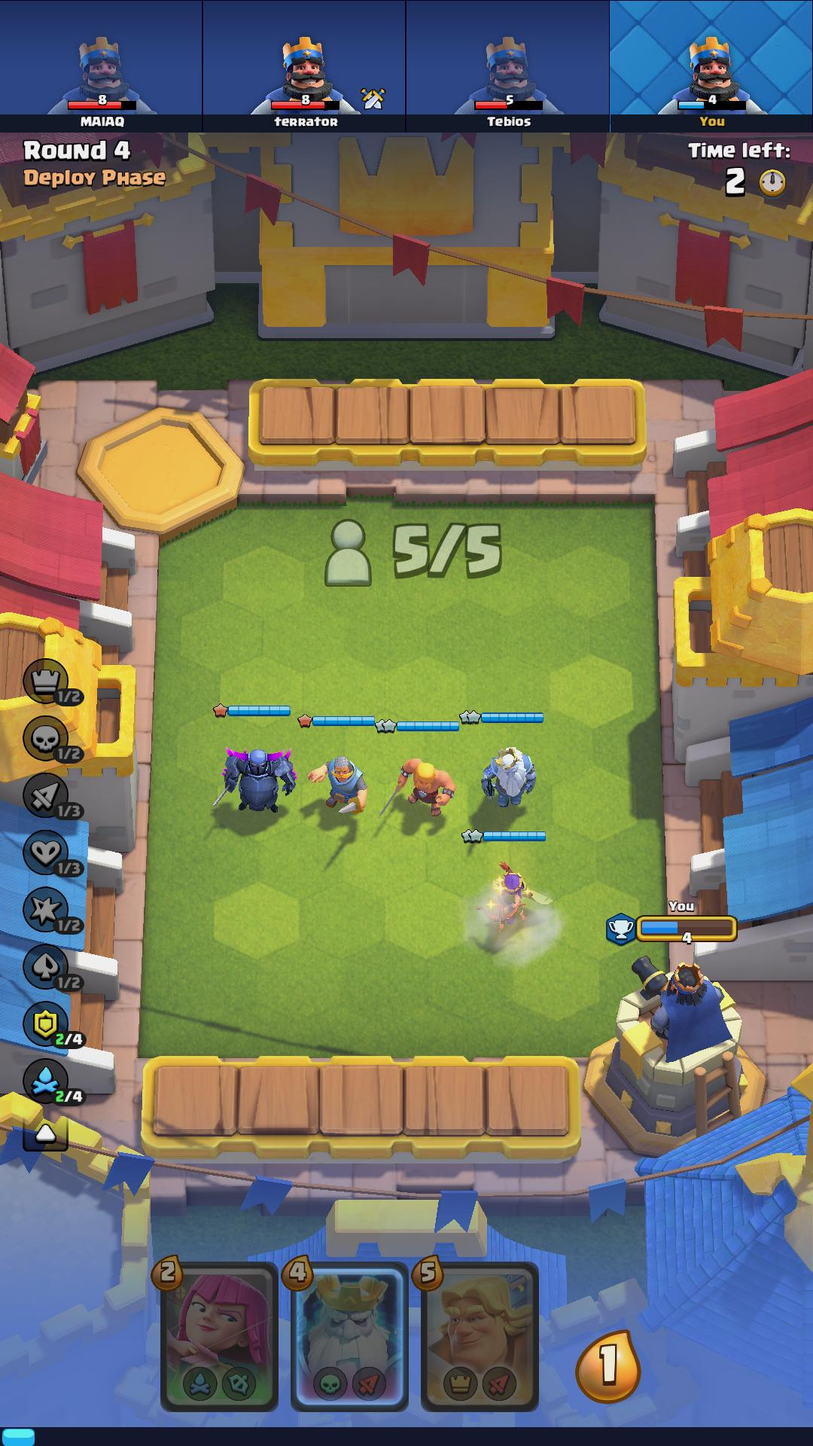barbarian: (385, 747, 458, 826)
ghost: (476, 739, 547, 811)
hand-archer: (161, 1267, 275, 1407)
hand-ghost: (296, 1268, 399, 1406)
hand-golden: (427, 1265, 536, 1410)
knight: (306, 738, 368, 818)
pekka: (210, 739, 302, 822)
queen: (476, 851, 552, 940)
